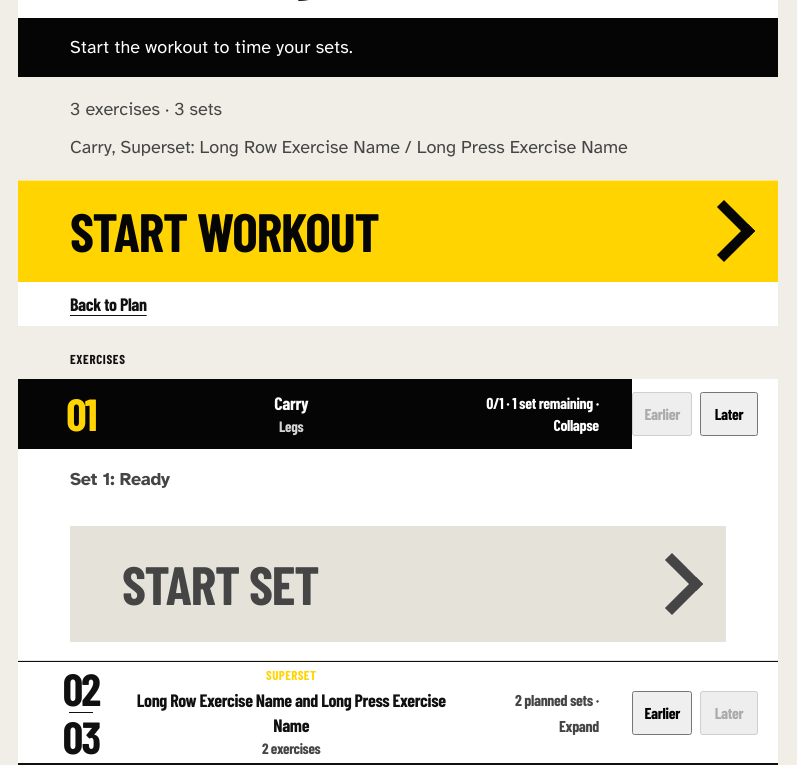
recomputes collapsed superset endpoints for both atomic move directions
The image size is (797, 765).
(page scrolled)
Click the button named "Move Long Row Exercise Name with its superset earlier; position 2 of 2; available" at (662, 713), box 632,691 -> 692,735
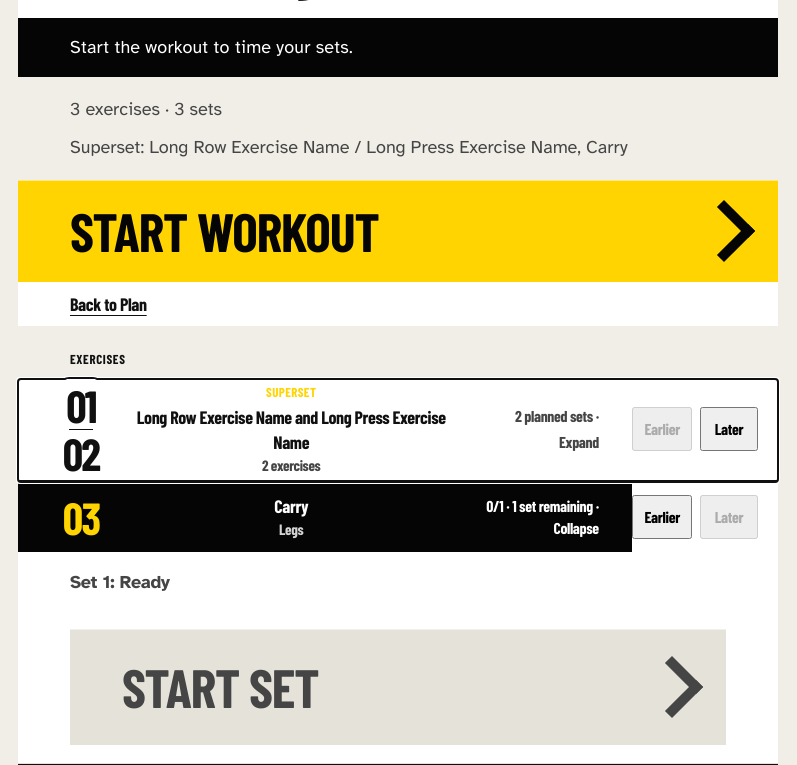
Now the list item named "positions 01 through 02" is shown, box 18,378 -> 778,482
Click the button named "Move Long Row Exercise Name with its superset later; position 1 of 2; available" at (729, 429), box 700,407 -> 758,451
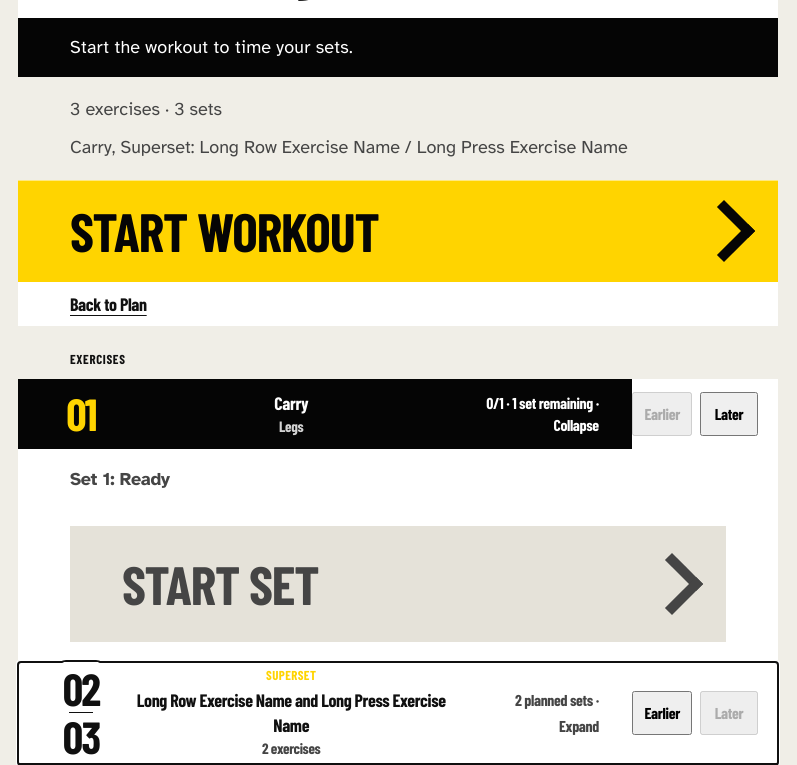
Now the list item named "positions 02 through 03" is shown, box 18,662 -> 778,764
